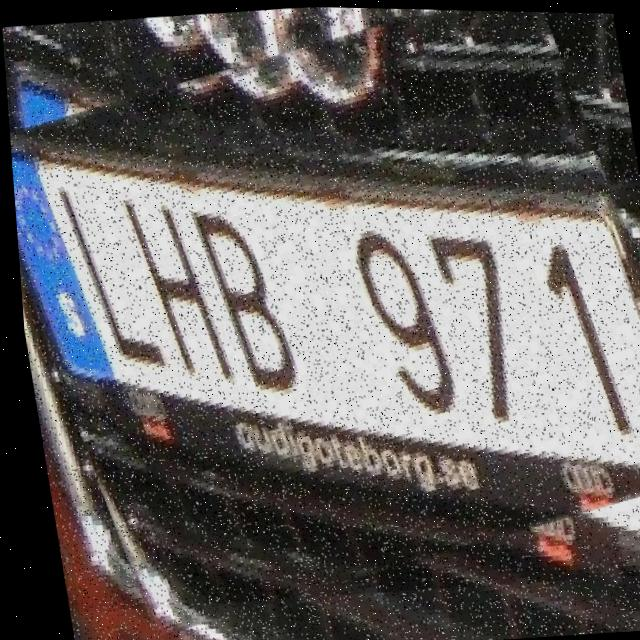LicensePlate: (0, 0, 640, 623)
